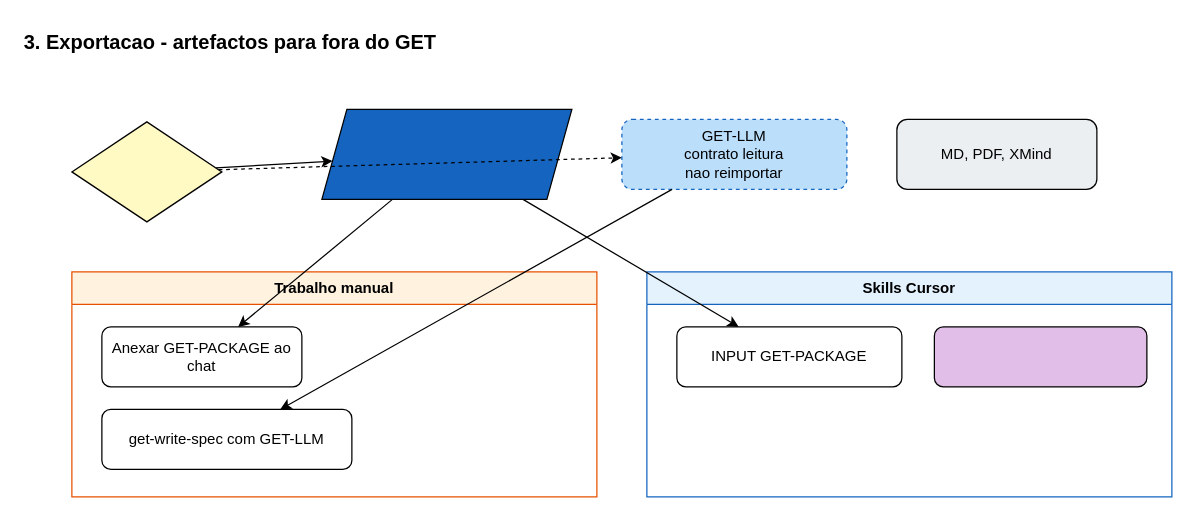
Image size: 1194x519. Some labels were removed from this diagram. Each missing label, with the centre of its shape:
"Baseline publicada?" goes at (146,171).
"GET-PACKAGE reimportavel" goes at (446,153).
"OUTPUT GET-PACKAGE editado" goes at (1040,356).
